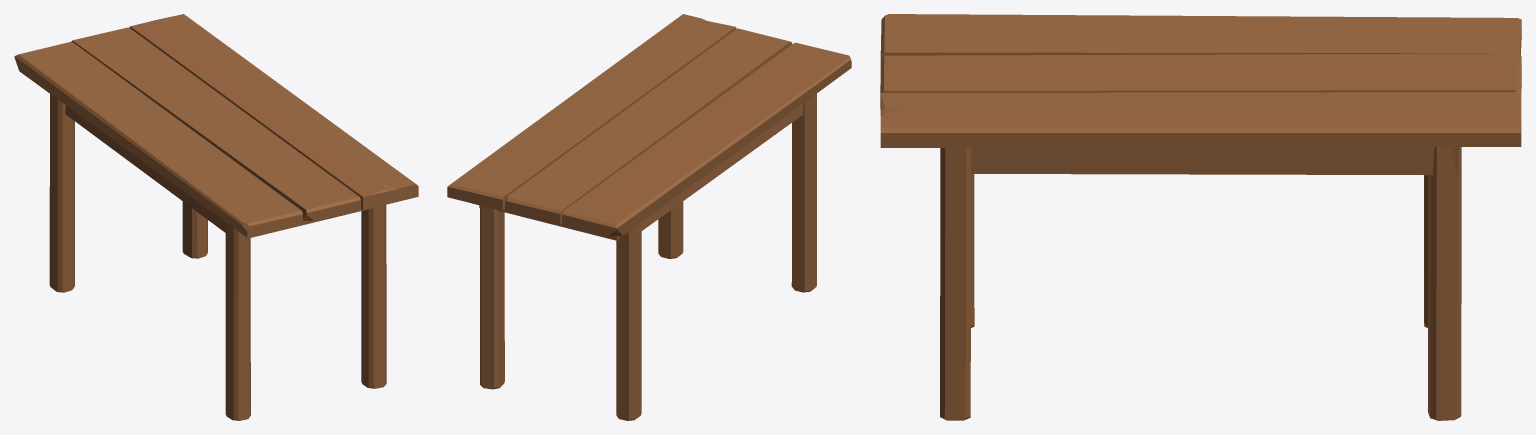
File: table_02.fbx
The picture shows the model from 3 angles, left to right: view 1: azimuth 30°, elevation 25°; view 2: azimuth 150°, elevation 25°; view 3: azimuth 270°, elevation 25°; orthographic projection. The views are drawn at different scales.
Visible parts, largest first — view 1: table; view 2: table; view 3: table.
Boxes of the visible parts, left/top/right/bottom form: table: left=14, top=14, right=418, bottom=420; table: left=447, top=14, right=851, bottom=420; table: left=880, top=14, right=1521, bottom=420.
Size of the model in its own units: 80.97 by 96.83 by 189.
